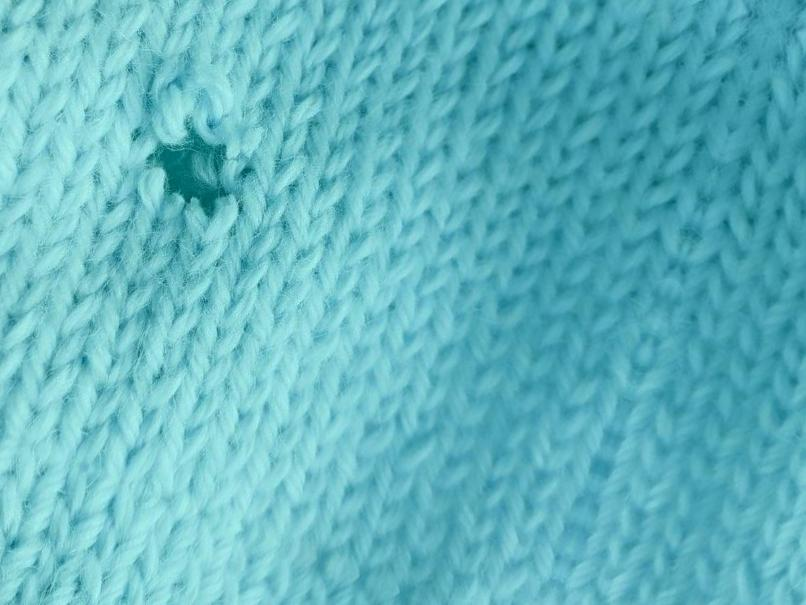hole: (129, 120, 259, 228)
